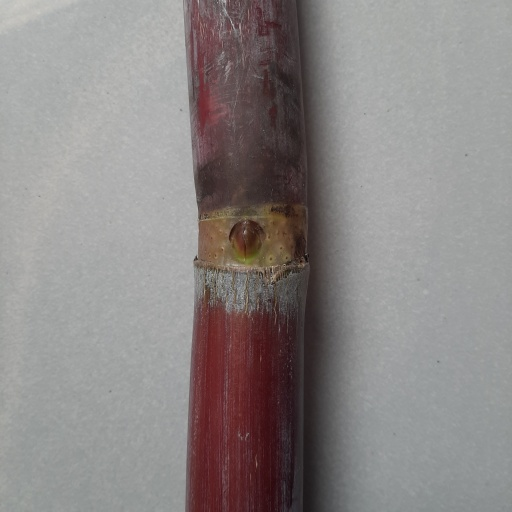Bud: (227, 219, 266, 263)
